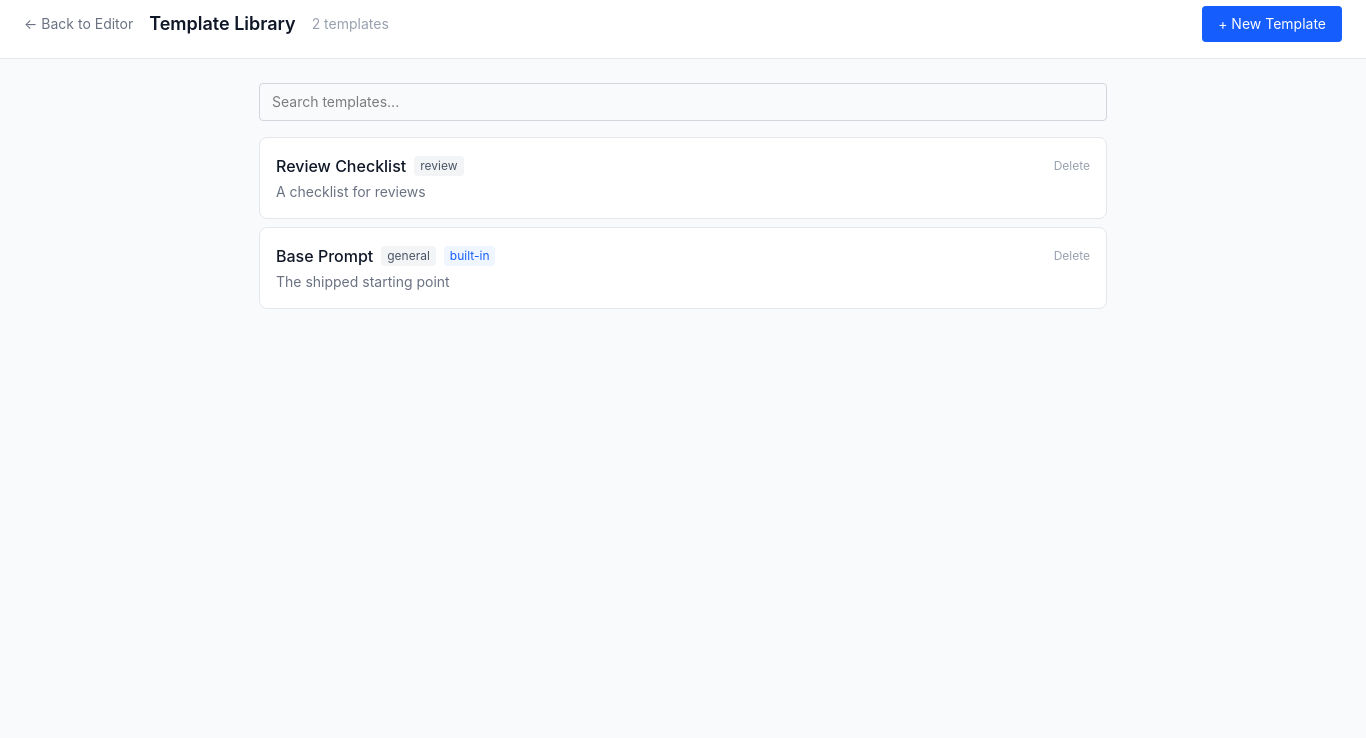
it: Templates › refuses to create one with missing fields, before asking the server
Check: the text "review checklist" is shown, box [276,154,406,178]
Click the button "+ New Template".
click(1272, 24)  # box [1202,6,1342,42]
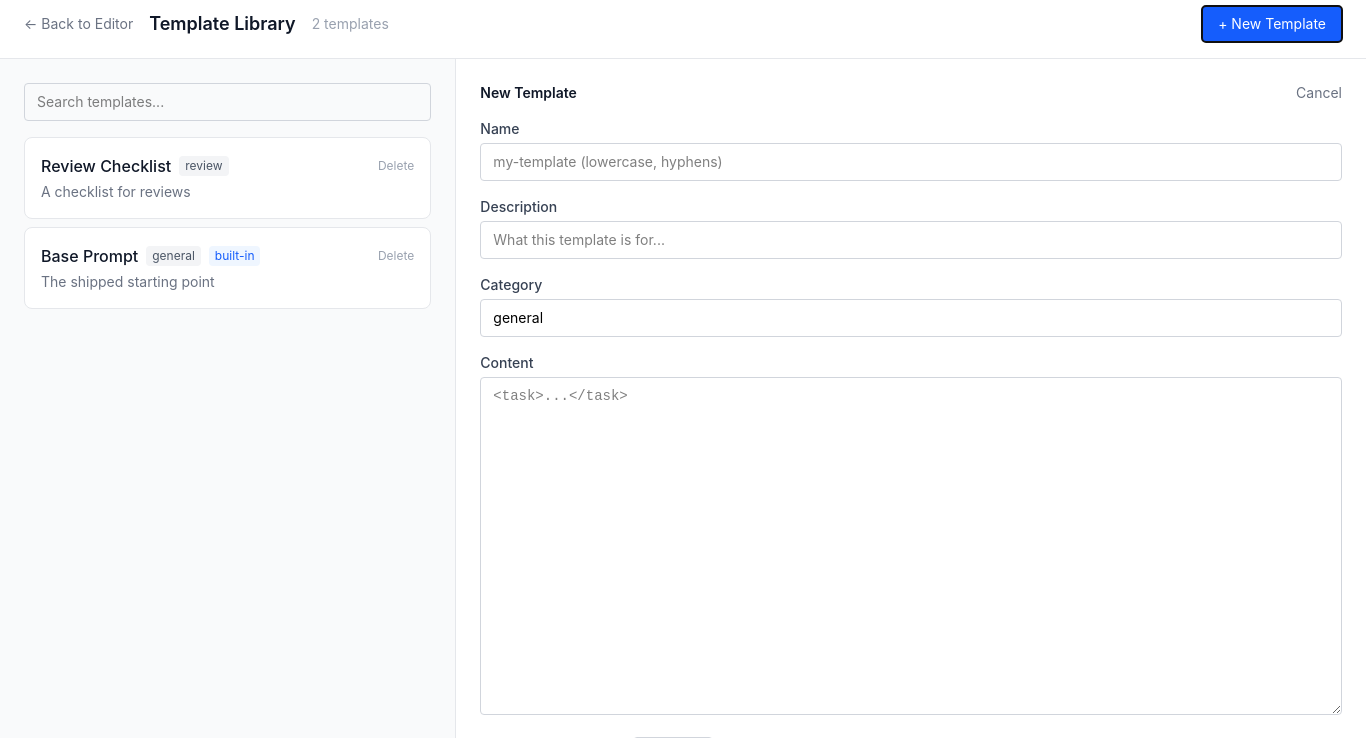
Type "x" into the field with placeholder "my-template (lowercase, hyphens)".
click(911, 162); type("x")  # box [480,143,1342,181]
(page scrolled)
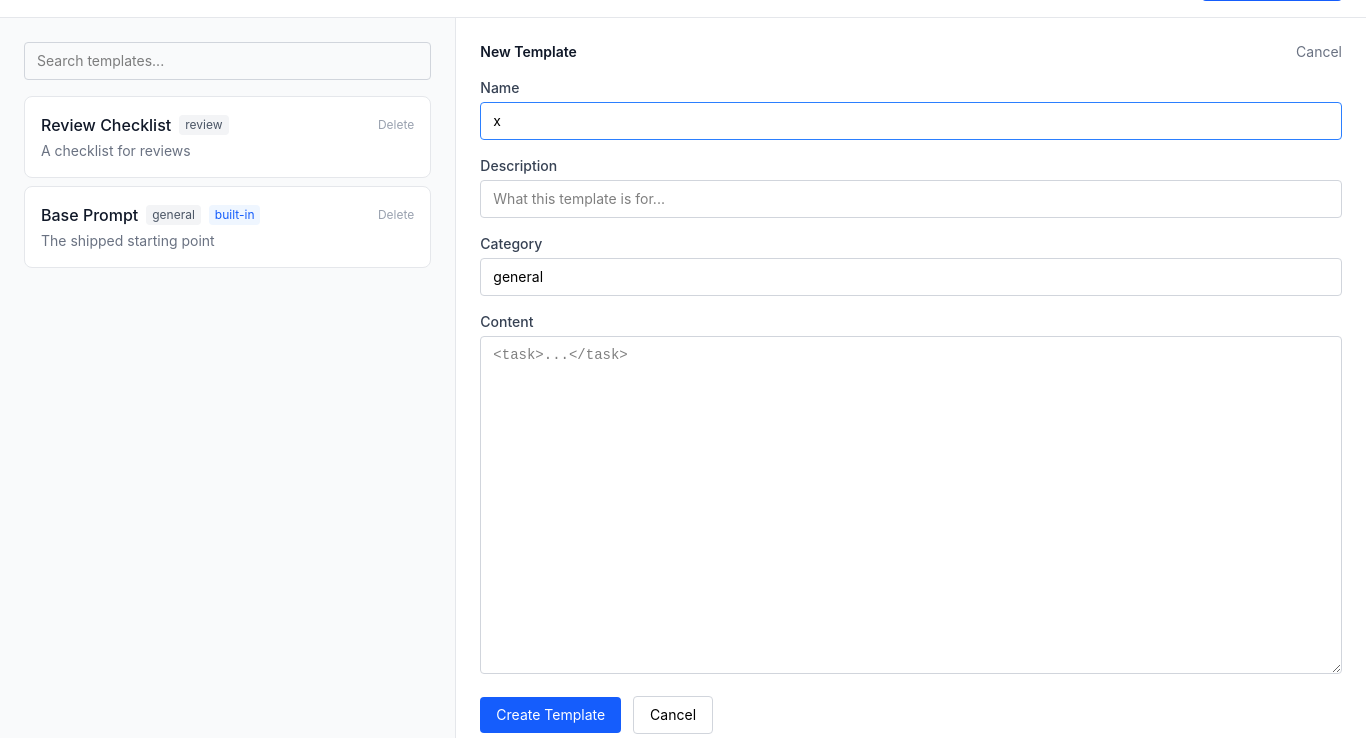
Click the button "Create Template".
click(551, 715)  # box [480,697,621,733]
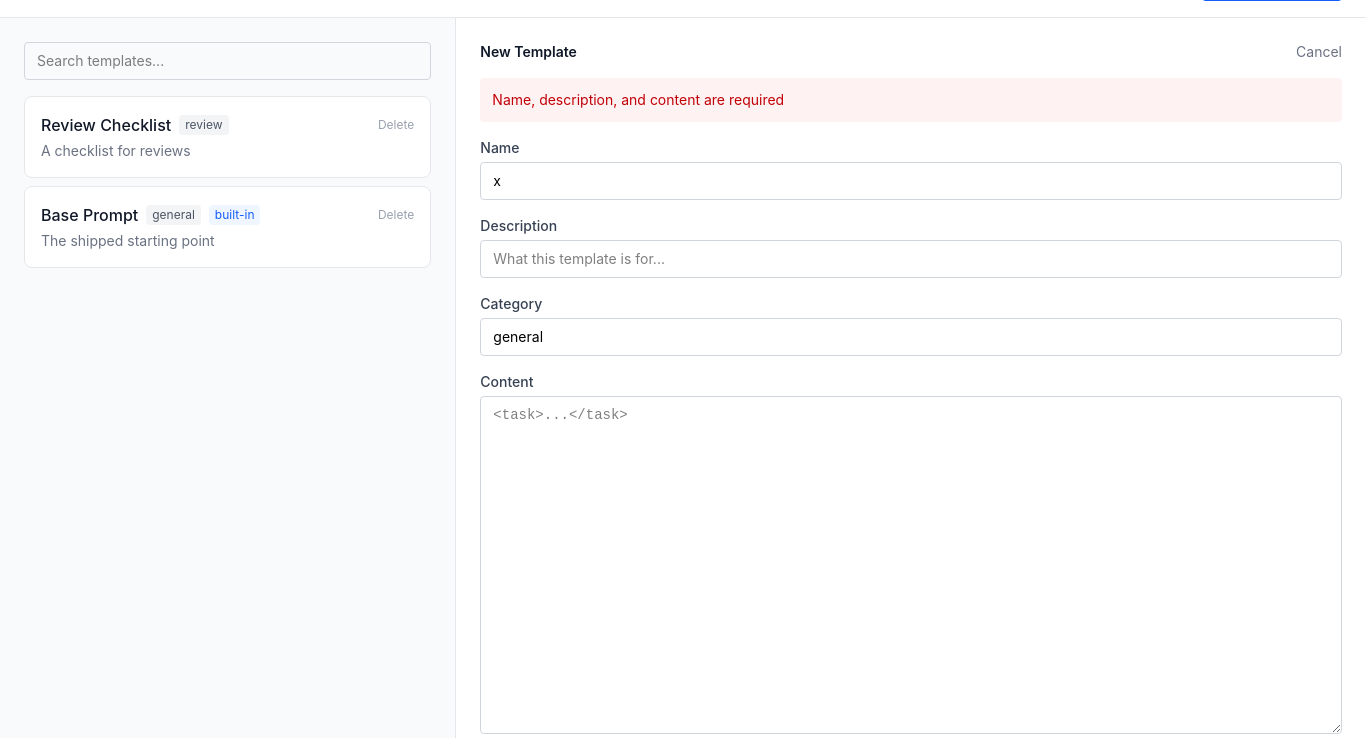
Check: the text "Name, description, and content are required" is shown, box [480,78,1342,122]
